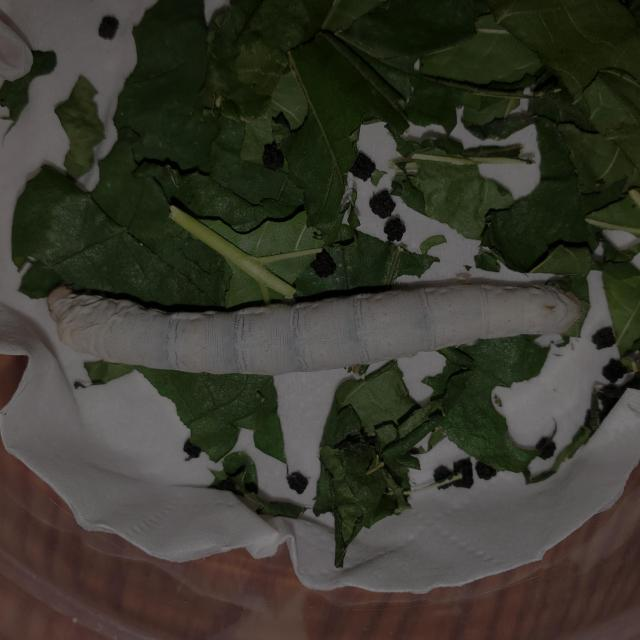Healthy: (41, 273, 594, 389)
